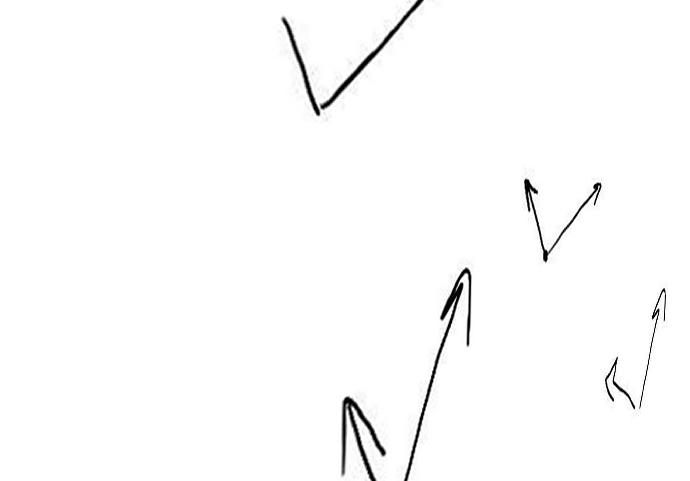arrow: (407, 267, 472, 478), (339, 396, 388, 481), (551, 181, 603, 252), (643, 286, 668, 407), (523, 175, 547, 253), (600, 357, 636, 409)
arrownohead: (323, 1, 422, 108), (283, 17, 318, 115)
